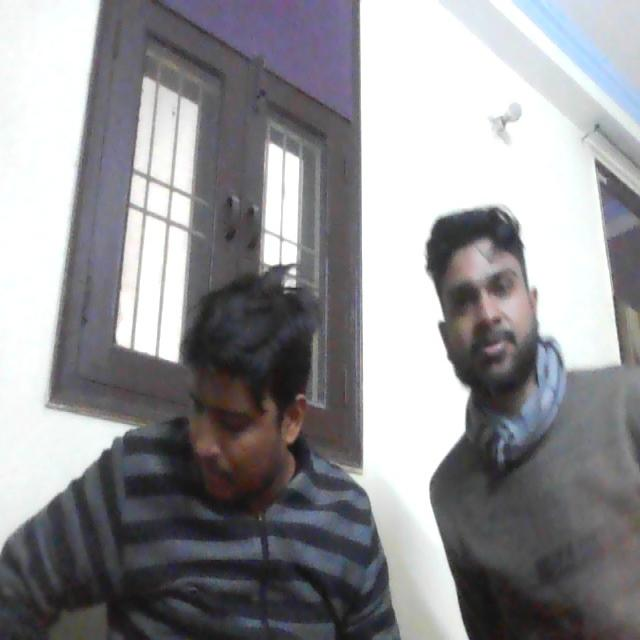real: (431, 185, 541, 394)
